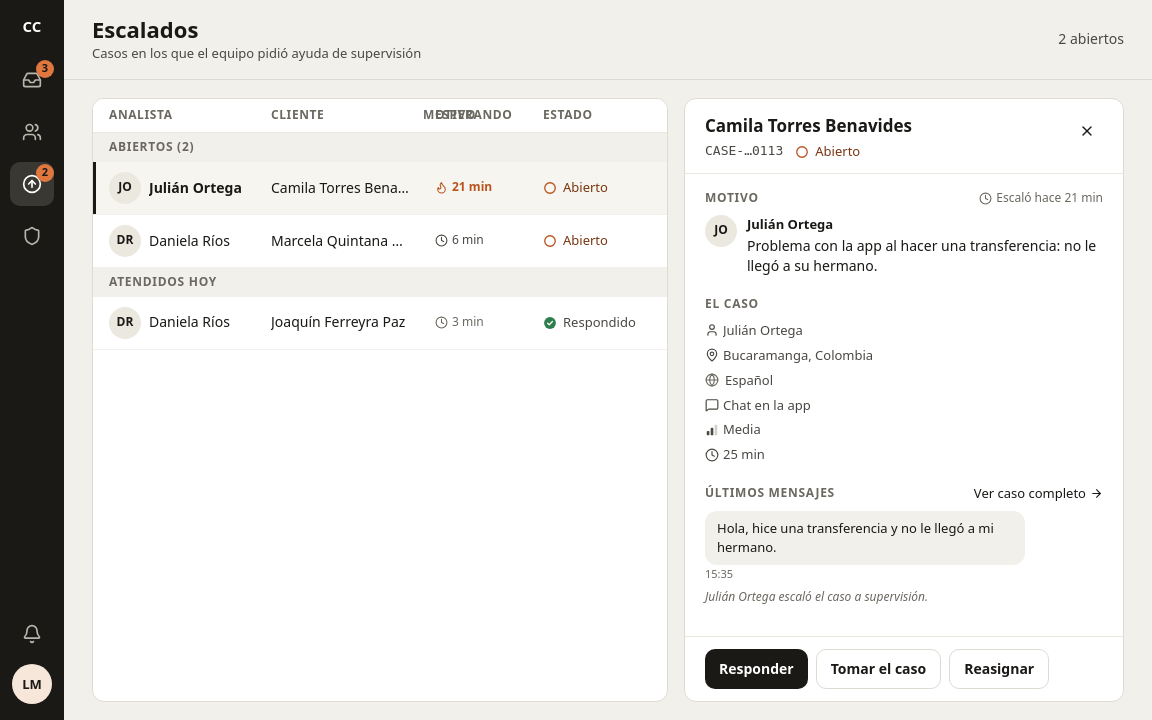
Scenario: escalations screen ("Escalados") › takes the case when the supervisor also holds Analista
Click the button "Tomar el caso". click: (878, 669)
box: [816,649,941,689]
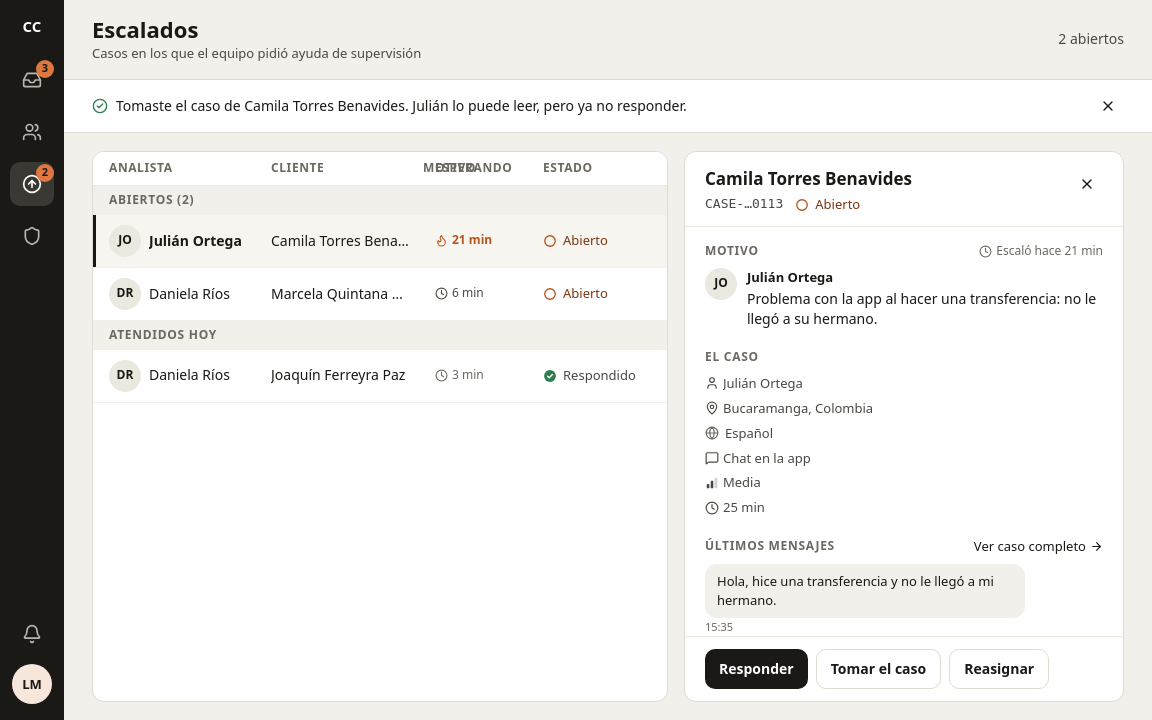
Expected: the text "Tomaste el caso de Camila Torres Benavides. Julián lo puede leer, pero ya no responder." is shown, [116,96,687,115]
